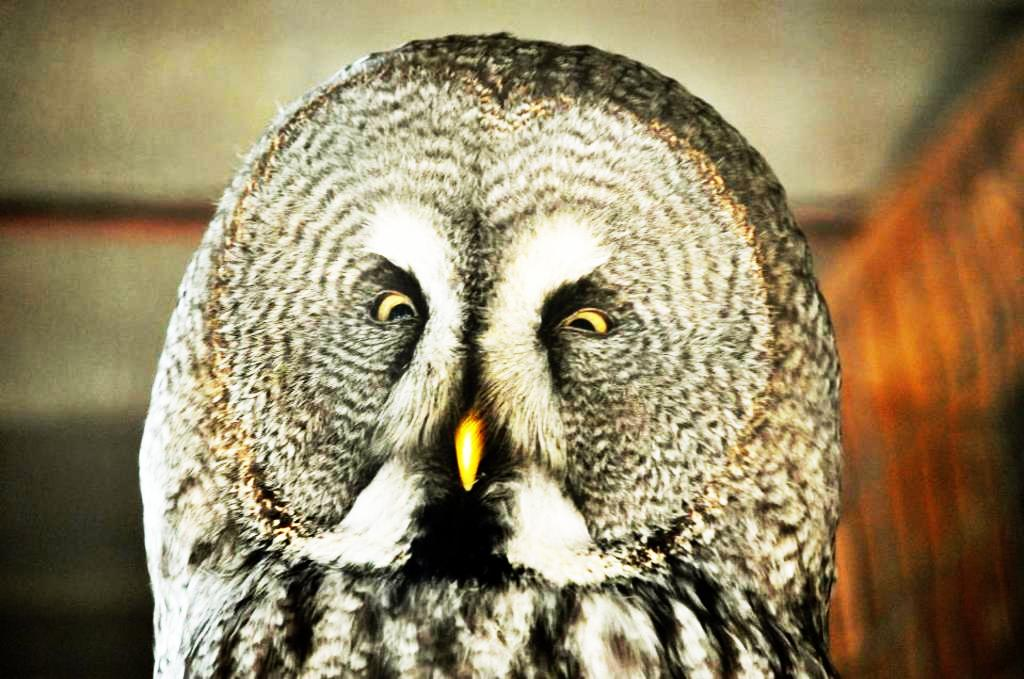Owl: (142, 37, 833, 679)
